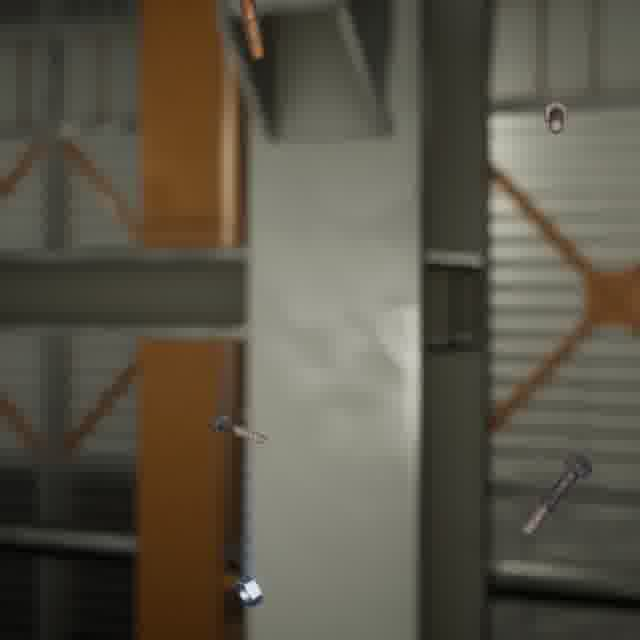bolt: (517, 448, 597, 539), (205, 409, 273, 448), (234, 0, 269, 64), (540, 95, 572, 137)
nut: (232, 570, 267, 611)
